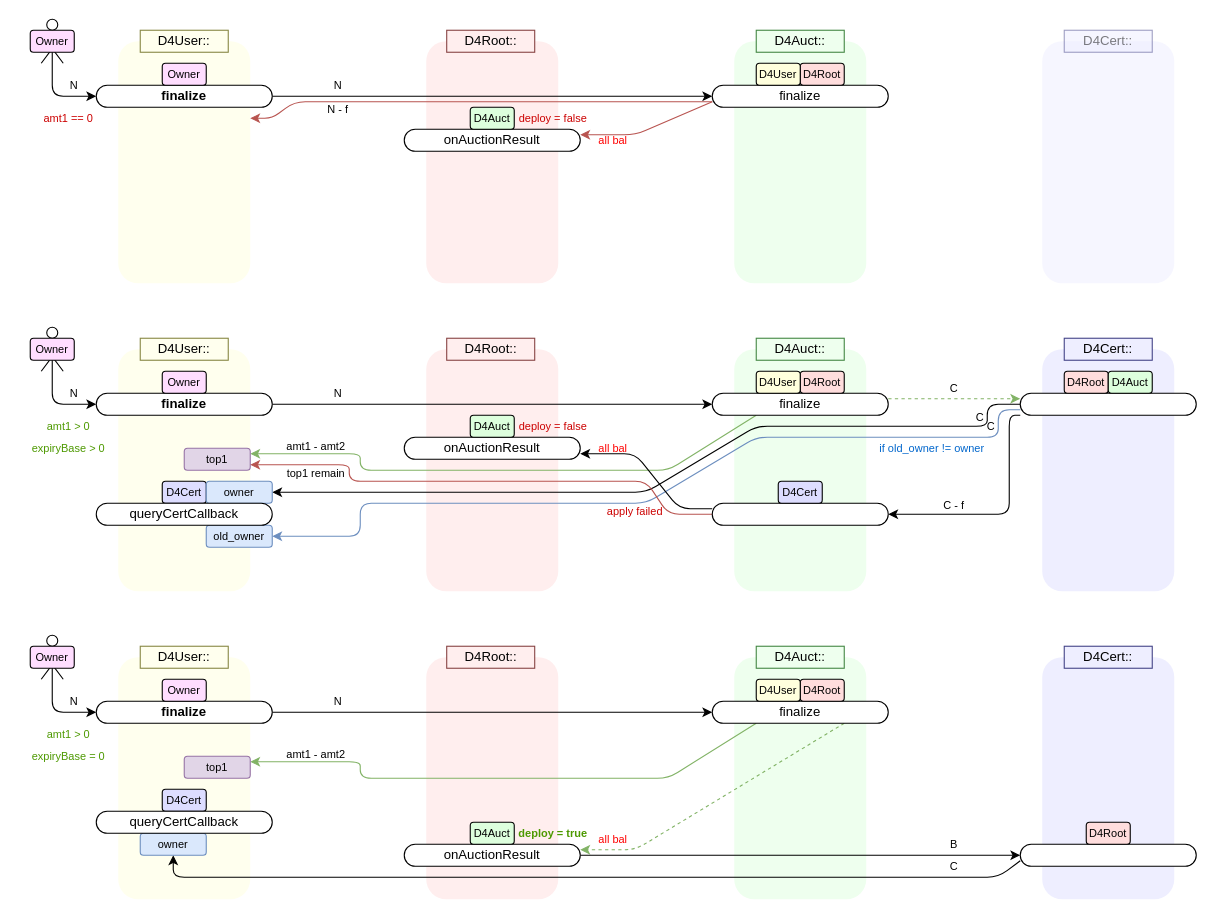
Some shapes in this 1216 by 919 pixel diagram are drawn without their labels. Here are the shapes that lost their labels. From the top down, the box of each, then its label:
(1019, 392, 1196, 415): applyAuctionResult
(711, 502, 888, 525): applyAuctionCallback
(1019, 843, 1196, 866): onCodeUpgrade (ctor)
